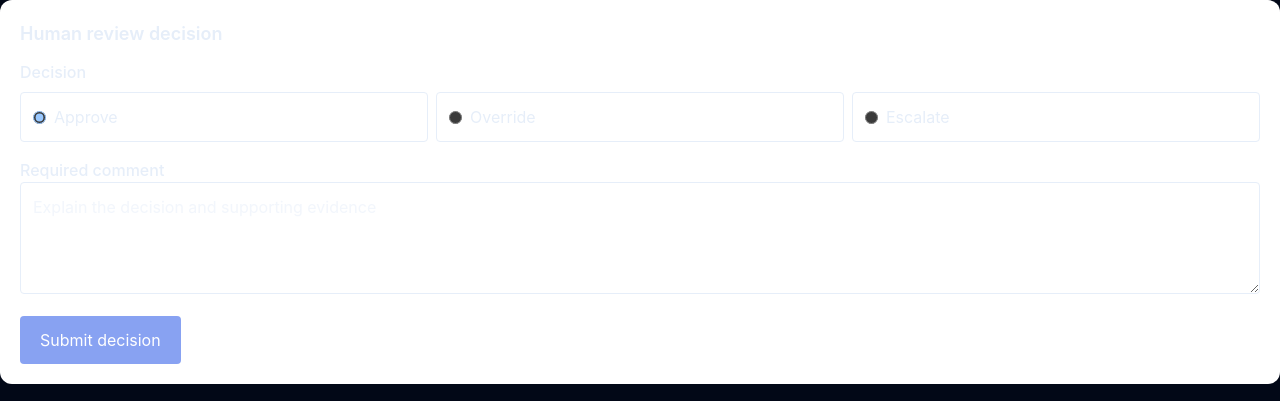
Test: requires a comment
Check: the button "Submit decision" is disabled, box [20,316,181,364]
Step 1. Type "Reviewed evidence" into the text box with placeholder "Explain the decision and supporting evidence" → (640, 238), box [20,182,1260,294]
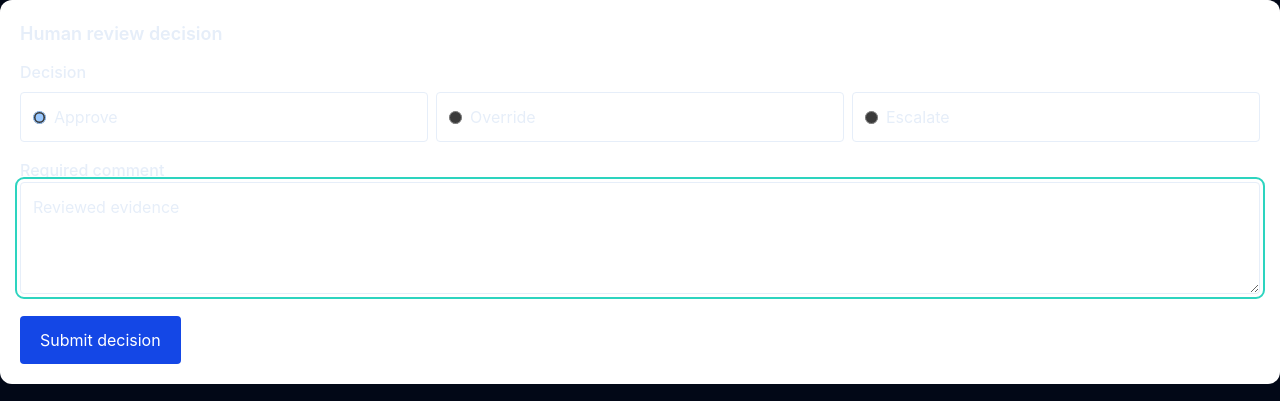
Check: the button "Submit decision" is enabled, box [20,316,181,364]
